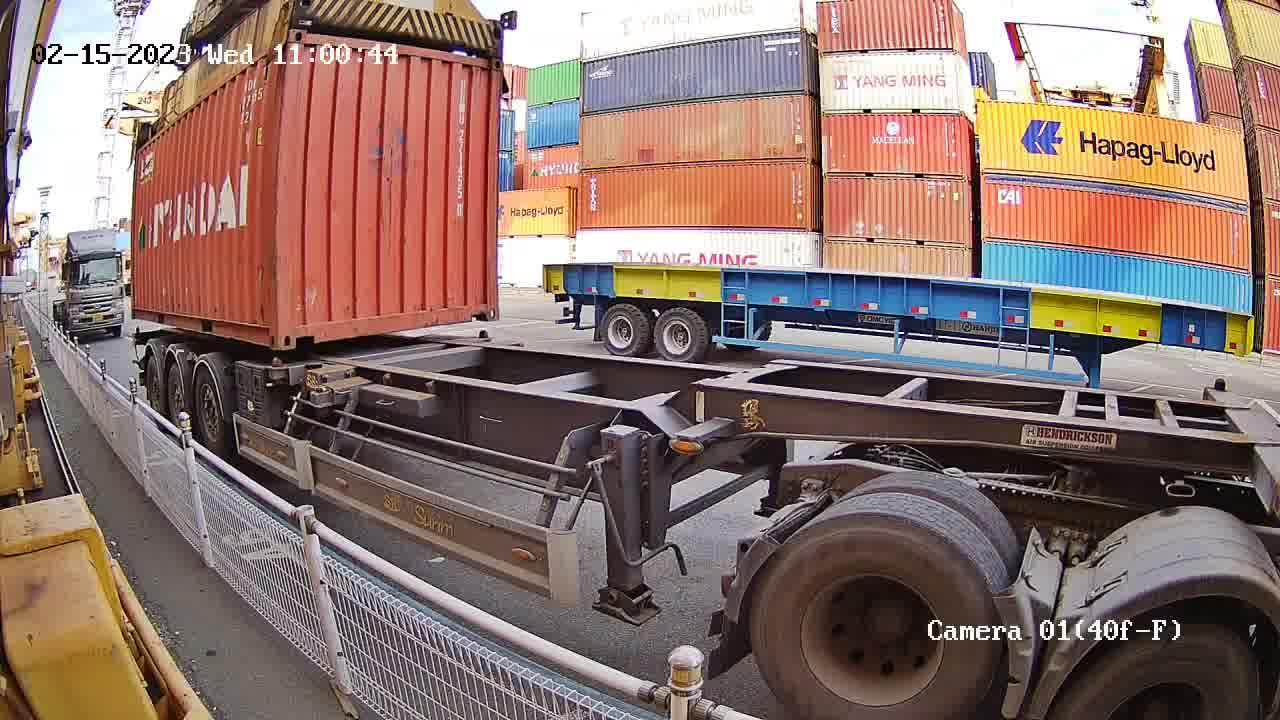Chassis: (279, 340, 490, 386)
Cone: (262, 354, 290, 384), (472, 328, 491, 353)
Hole_L: (279, 303, 322, 349)
Hole_R: (455, 280, 500, 323), (244, 303, 279, 350)
Tire: (748, 513, 1008, 717), (1061, 633, 1266, 717), (193, 368, 230, 451), (166, 367, 185, 422), (146, 362, 165, 408)
